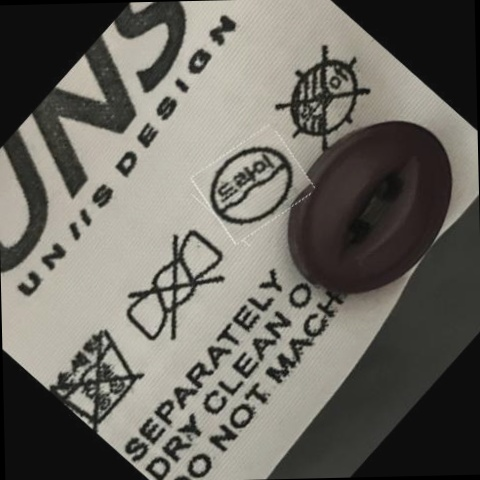DN_dry: (277, 51, 370, 146)
DN_wring: (123, 236, 228, 342)
dry_clean: (211, 142, 295, 230)
hand_wash: (56, 324, 143, 422)
